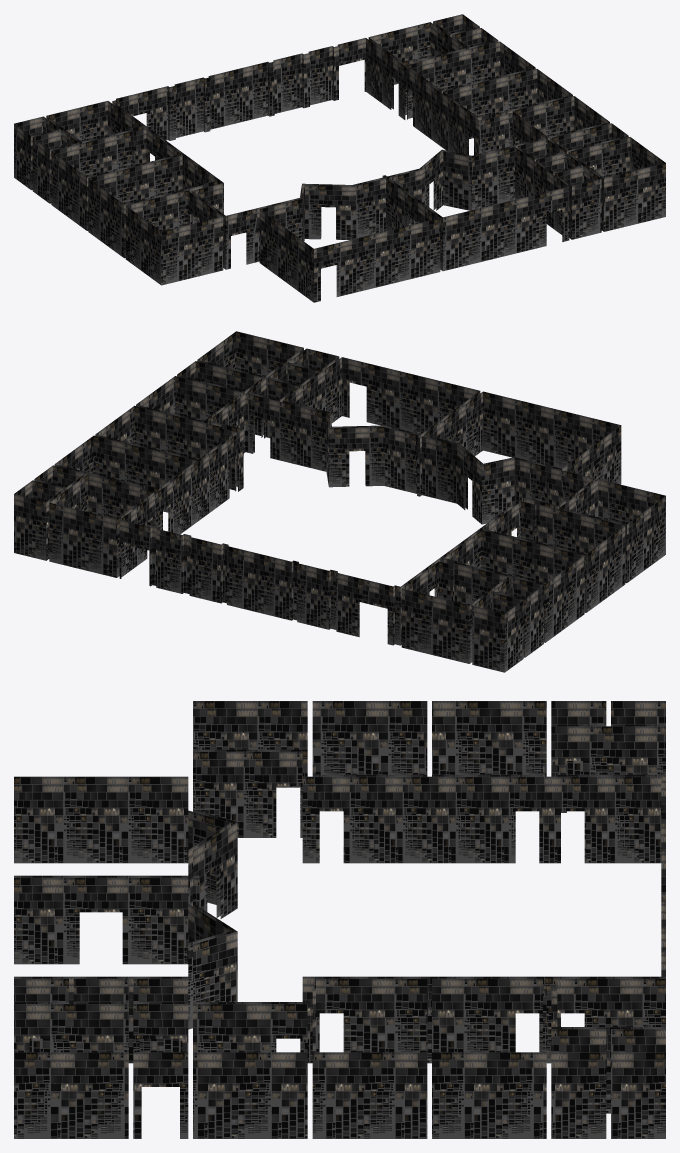
Rendered from inner_walls.DAE.
The picture shows the model from 3 angles, top to bottom: view 1: azimuth 30°, elevation 25°; view 2: azimuth 150°, elevation 25°; view 3: azimuth 270°, elevation 25°; orthographic projection. The views are drawn at different scales.
Parts seen in each view (by area): view 1: inner_walls; view 2: inner_walls; view 3: inner_walls.
Part boxes in pixels (x1=…): inner_walls: x1=14, y1=14, x2=665, y2=302; inner_walls: x1=14, y1=331, x2=665, y2=672; inner_walls: x1=14, y1=701, x2=665, y2=1138.
Size of the model in its own units: 1370 by 1075 by 157.
Materials: 1 (1 with a texture image).
